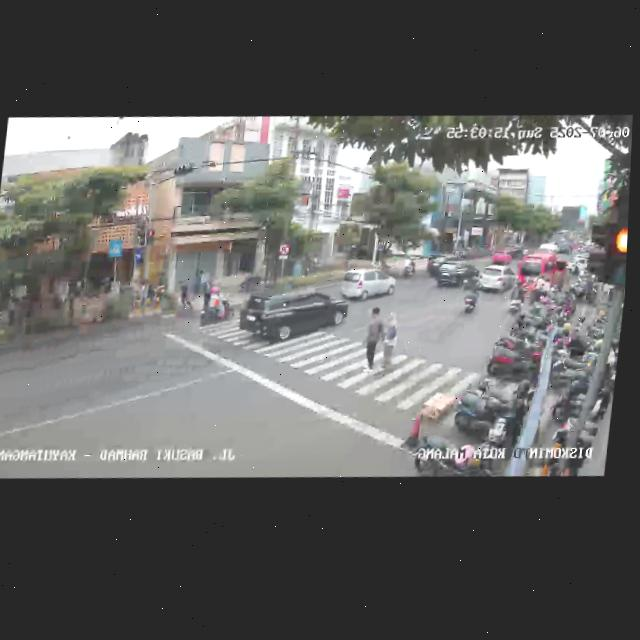car: (228, 275, 348, 354), (337, 265, 396, 307), (517, 249, 570, 295), (431, 257, 479, 291), (476, 262, 519, 299)
motorcycle: (197, 279, 233, 330), (457, 280, 480, 318)
person: (355, 306, 386, 376), (375, 307, 401, 375), (173, 276, 196, 316)
